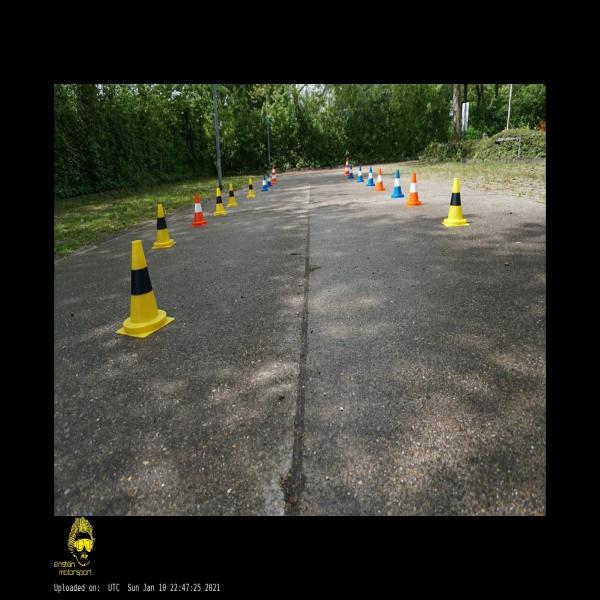blue_cone: (391, 170, 404, 197), (367, 167, 374, 185), (261, 176, 268, 192), (357, 166, 364, 182), (348, 165, 354, 178), (267, 174, 273, 186)
large_orange_cone: (271, 166, 277, 183), (345, 157, 349, 176)
orange_cone: (191, 194, 207, 225), (407, 174, 421, 206), (375, 169, 385, 190)
yellow_cone: (116, 240, 174, 338), (442, 178, 469, 226), (152, 205, 175, 247), (214, 188, 226, 215), (228, 184, 238, 205), (246, 179, 255, 197)
